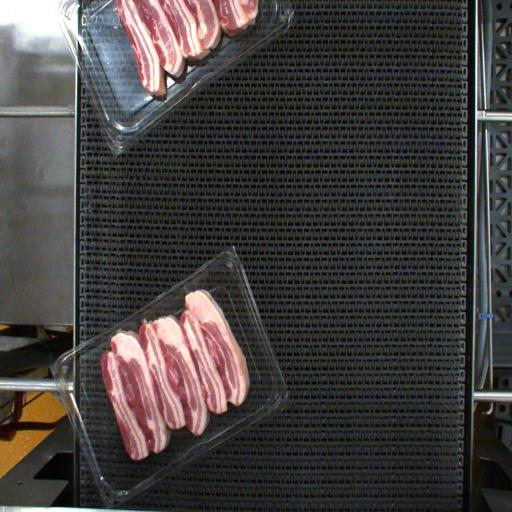packaging-error: (177, 273, 205, 297), (100, 314, 126, 336)
